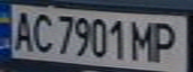0: (90, 16, 109, 60)
1: (106, 16, 130, 61)
7: (51, 11, 75, 56)
9: (69, 14, 93, 57)
A: (6, 7, 36, 52)
C: (27, 9, 57, 54)
M: (127, 18, 160, 62)
P: (148, 19, 184, 64)
